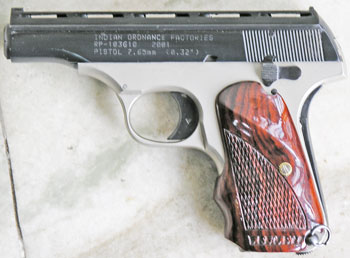gun: (4, 4, 348, 258)
